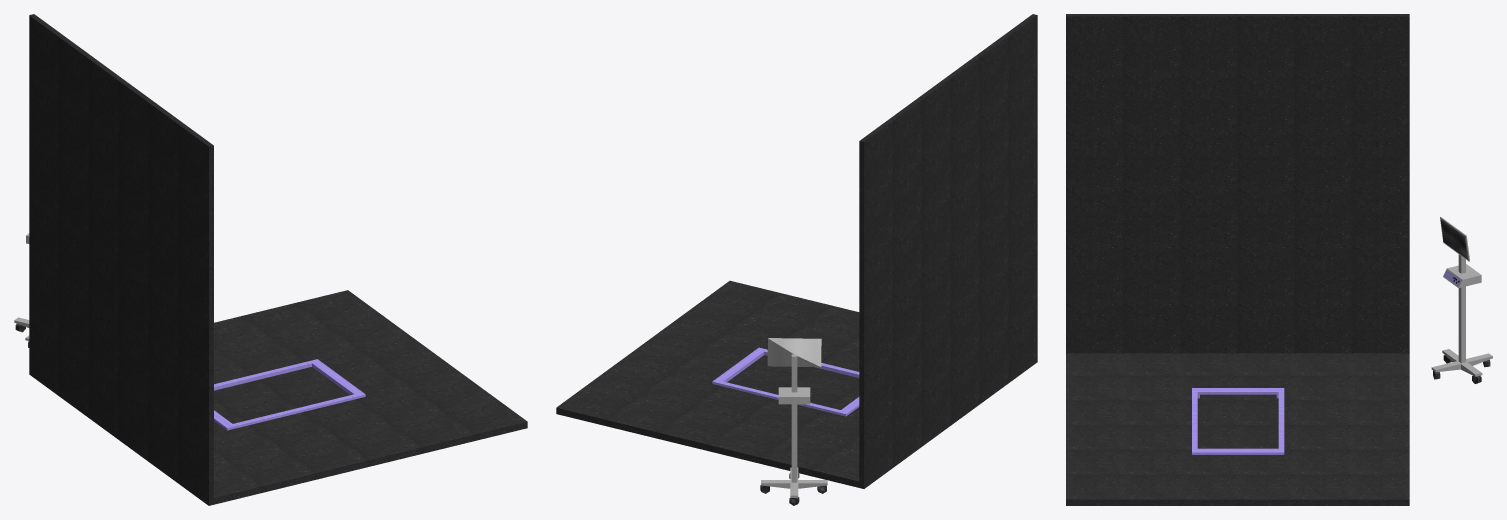
File: jump-latest.glb
3 views of the same model, side by side, from view 1: azimuth 30°, elevation 25°; view 2: azimuth 150°, elevation 25°; view 3: azimuth 270°, elevation 25° (orthographic). The views are drawn at different scales.
Parts seen in each view (by area): view 1: object_4, object_5, object_3, object_1; view 2: object_4, object_5, object_3, object_1, 1_485.072, 1_485.097, 1_485.012; view 3: object_4, object_5, object_3, object_1, 1_485.066.
Boxes of the visible parts, x1,y1,x2,y2 form: object_4: (29, 14, 213, 505); object_5: (30, 290, 527, 504); object_3: (214, 367, 350, 423); object_1: (214, 359, 365, 430); object_4: (859, 14, 1037, 488); object_5: (556, 280, 1037, 488); object_3: (727, 355, 859, 409); object_1: (712, 347, 859, 416); 1_485.072: (768, 338, 821, 366); 1_485.097: (791, 356, 797, 482); 1_485.012: (767, 338, 820, 367); object_4: (1066, 14, 1409, 353); object_5: (1066, 353, 1409, 505); object_3: (1200, 394, 1276, 448); object_1: (1192, 388, 1284, 454); 1_485.066: (1440, 220, 1467, 259).
Bounding box in the file's own units: 26 × 28 × 31.54.
5 materials, 4 textured.
